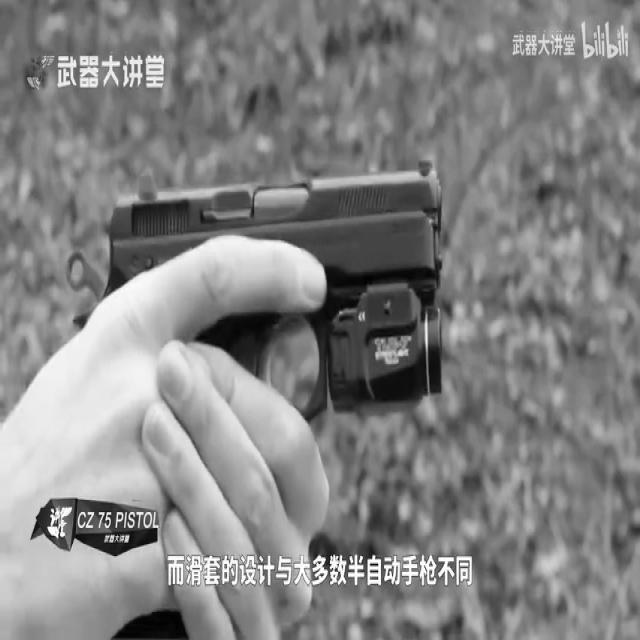Hand-Gun: (0, 6, 466, 640)
